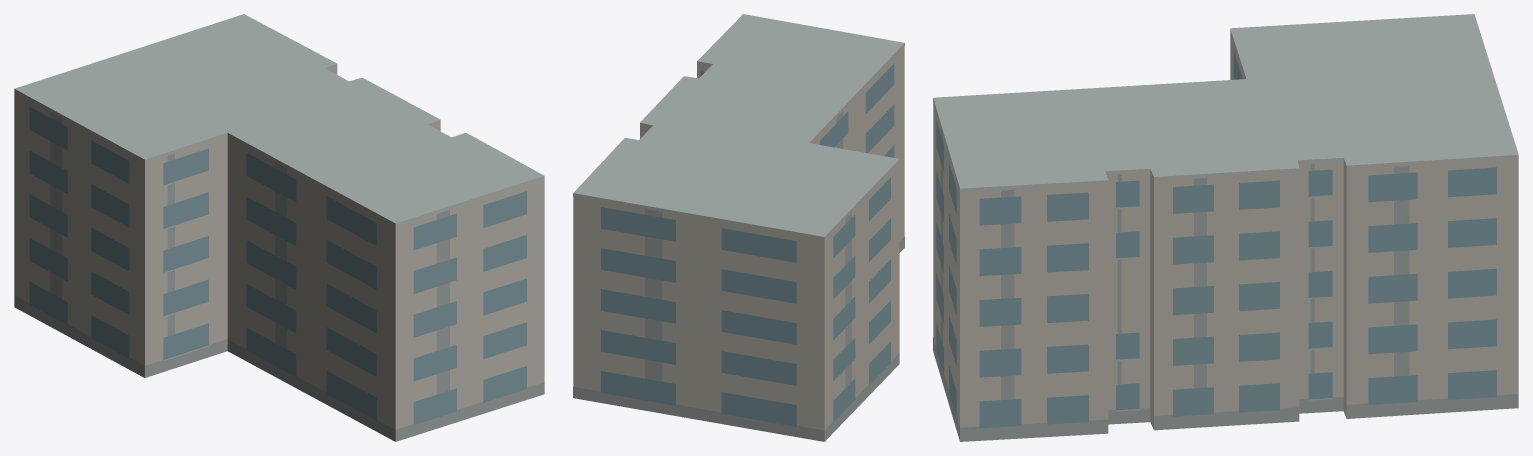
File: survey-upis-32946301.glb
3 renders of one model, left to right at view 1: azimuth 30°, elevation 25°; view 2: azimuth 150°, elevation 25°; view 3: azimuth 270°, elevation 25°, orthographic. The views are drawn at different scales.
Visible parts, largest first — view 1: survey-upis-32946301.tmp; view 2: survey-upis-32946301.tmp; view 3: survey-upis-32946301.tmp.
Boxes of the visible parts, bbox=[...] form: survey-upis-32946301.tmp: bbox=[14, 14, 544, 441]; survey-upis-32946301.tmp: bbox=[573, 14, 904, 441]; survey-upis-32946301.tmp: bbox=[933, 14, 1518, 441].
Bounding box in the file's own units: 21.59 × 14.6 × 30.6.
